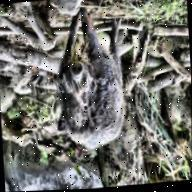boar: (52, 0, 163, 162)
